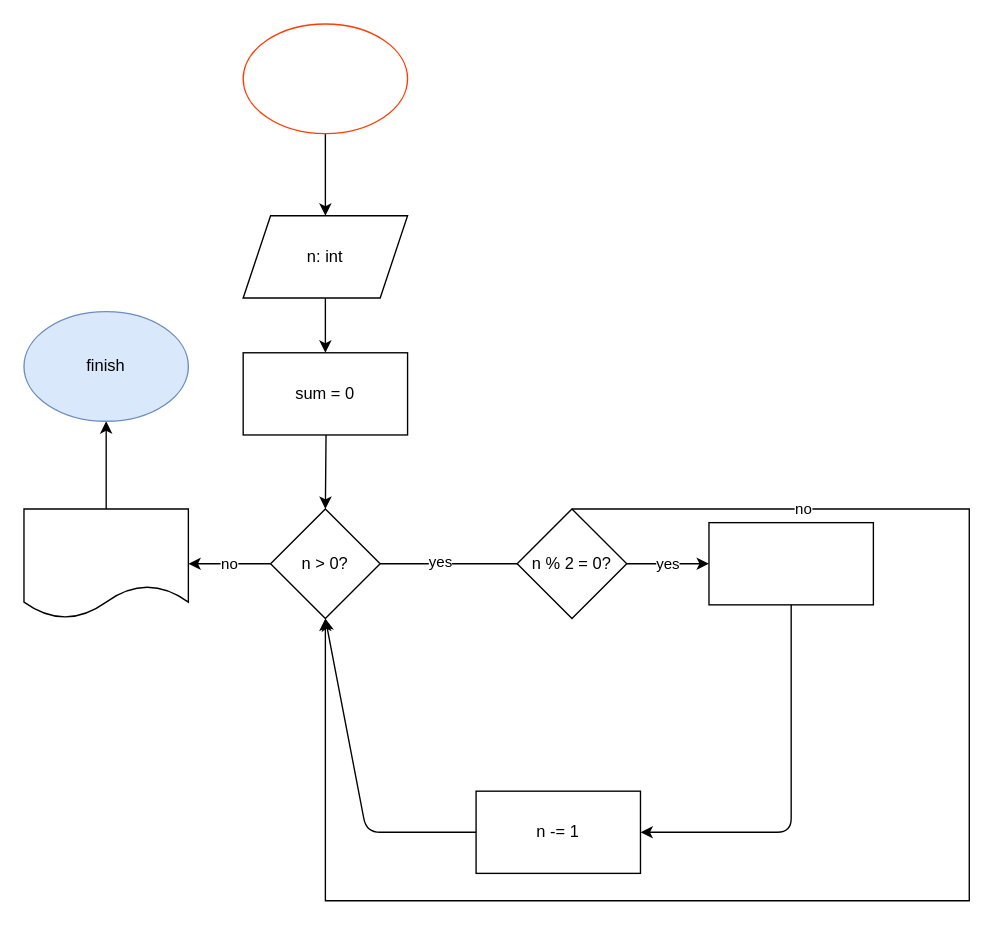
The diagram is 1004 pixels wide and 936 high, and some of its shapes have lost their labels. The centre of each missing label's shape, as x and y in pixels:
Start: the point at 325,78
sum: the point at 105,563
sum += n: the point at 790,563
